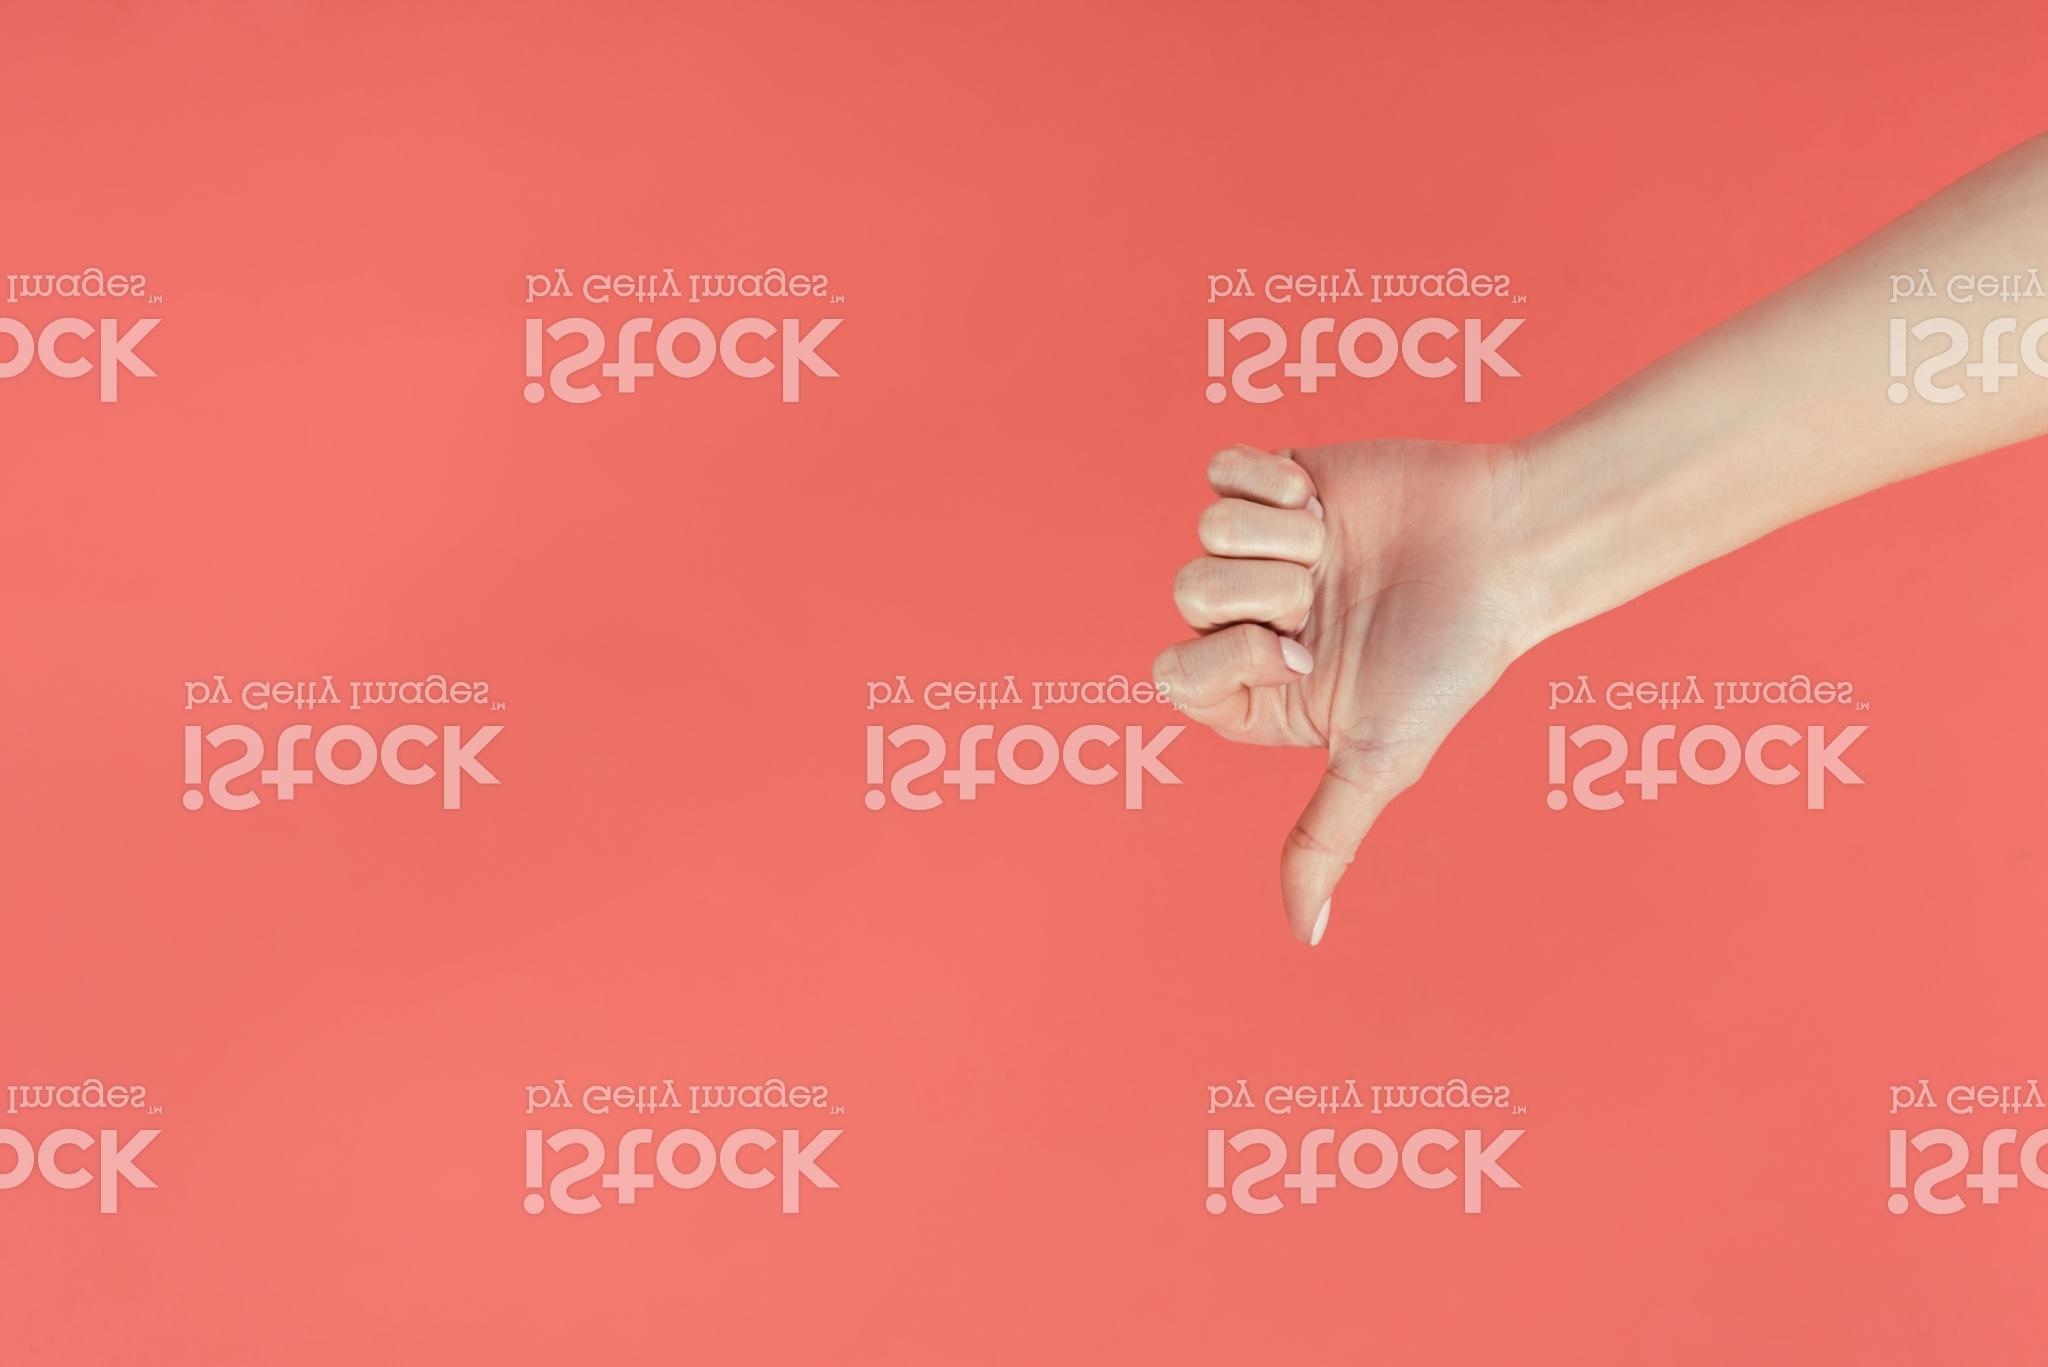thumbsdown: (1148, 433, 1465, 949)
